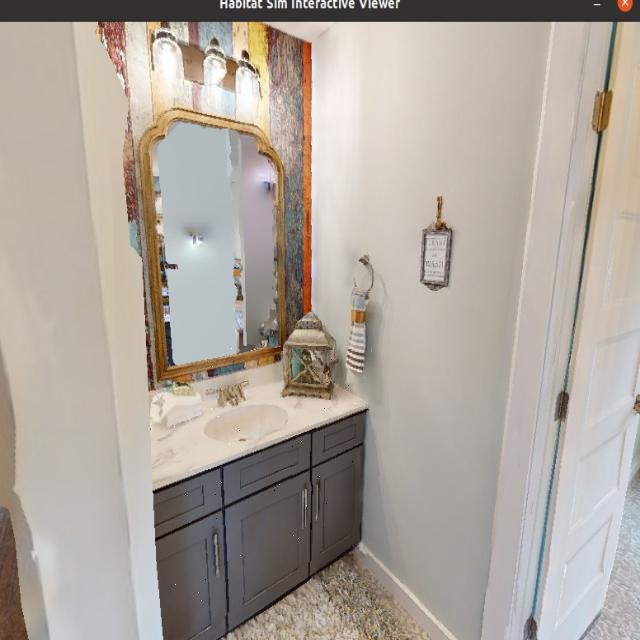sink: (150, 339, 364, 636)
